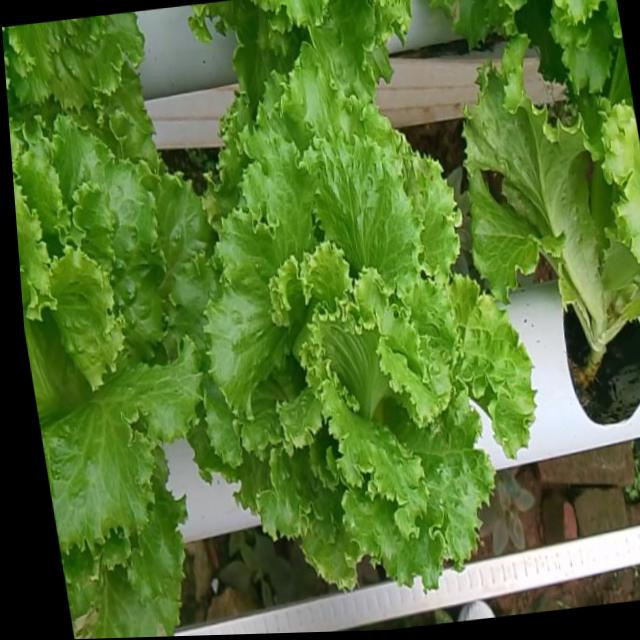Mature: (204, 72, 540, 603), (13, 122, 216, 569)
